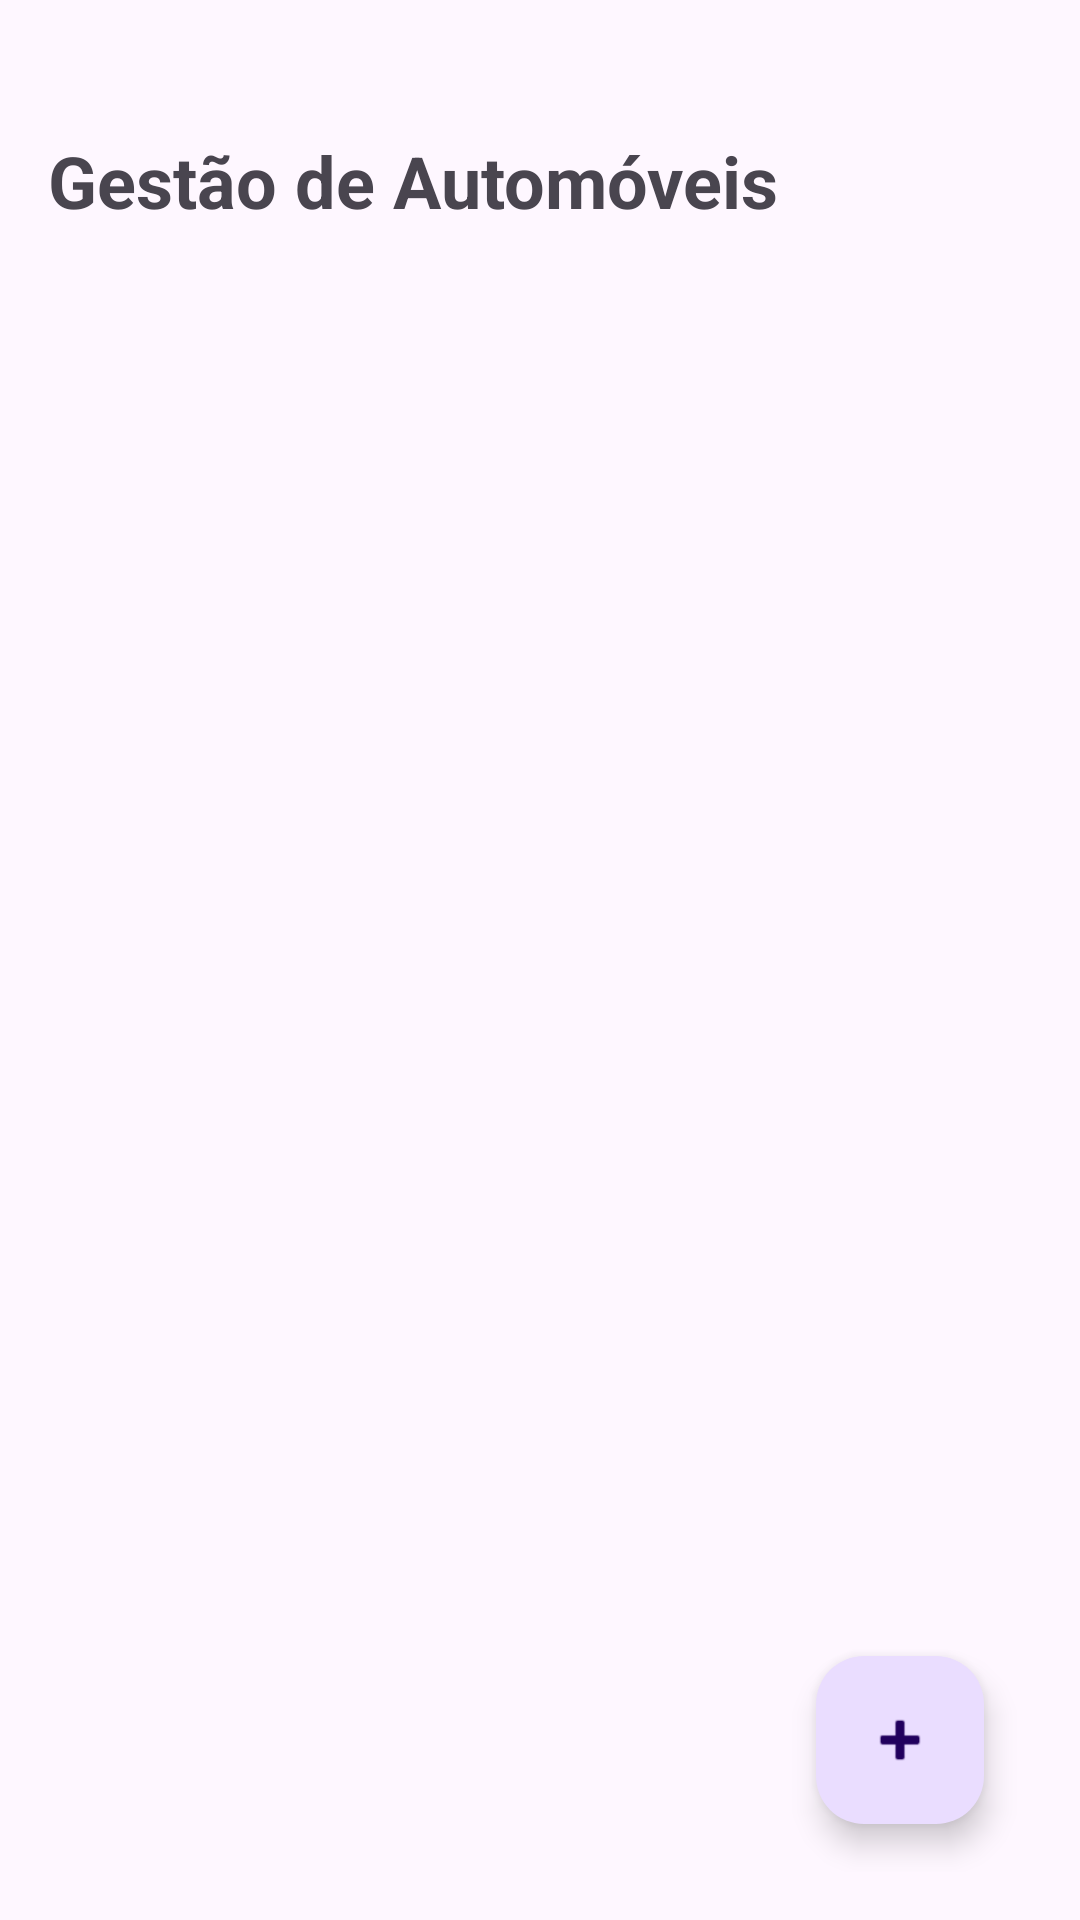

Screen size 1080*1920. Icon name, then its box in pixels as [x1, y1, x2, y2]:
Adicionar Viatura: [816, 1656, 984, 1824]
